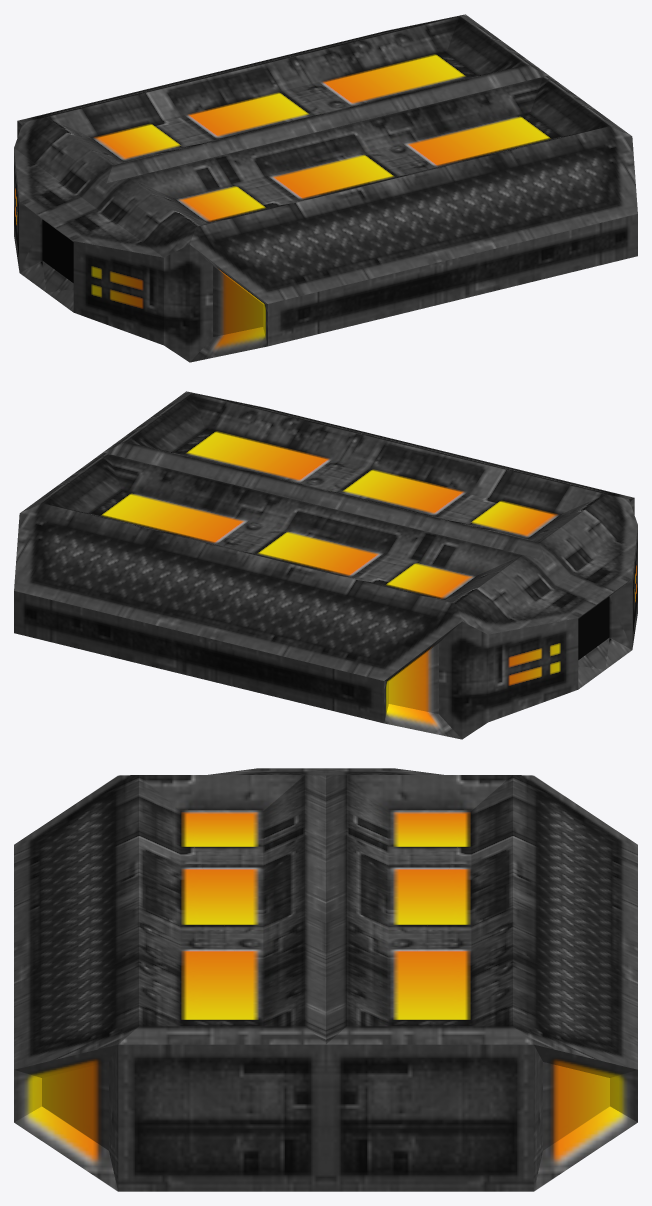
The model's file is generic_TorpedoLauncher1.FBX.
3 renders of one model, top to bottom at view 1: azimuth 30°, elevation 25°; view 2: azimuth 150°, elevation 25°; view 3: azimuth 270°, elevation 25°, orthographic. The views are drawn at different scales.
Visible parts, largest first — view 1: TorpedoLauncher; view 2: TorpedoLauncher; view 3: TorpedoLauncher.
Part boxes in pixels (x1,y1,x2,y2): TorpedoLauncher: (14,14,637,362); TorpedoLauncher: (14,391,637,739); TorpedoLauncher: (14,768,637,1191).
Bounding box in the file's own units: 25.45 × 21.98 × 6.09.
